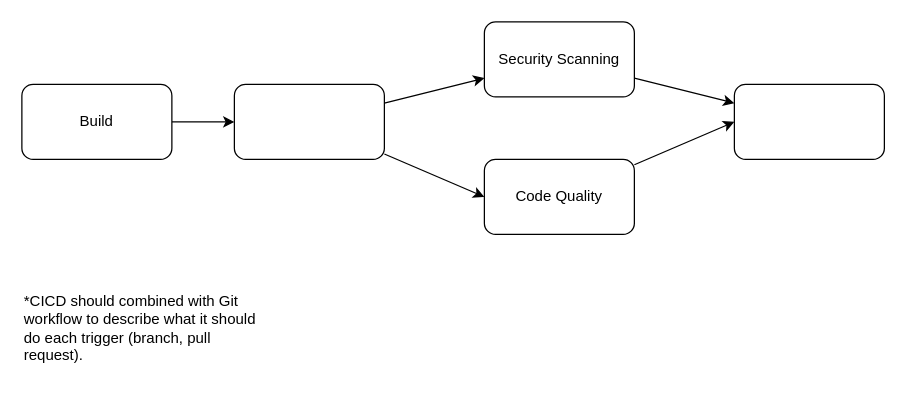
Image size: 906x394. Some labels were removed from this diagram. The shapes that lost their labels are listed below. From the top down, each one's centre as x and y in pixels, then its label:
At point 308,121: "Integration Tests".
At point 808,121: "Deploy".
